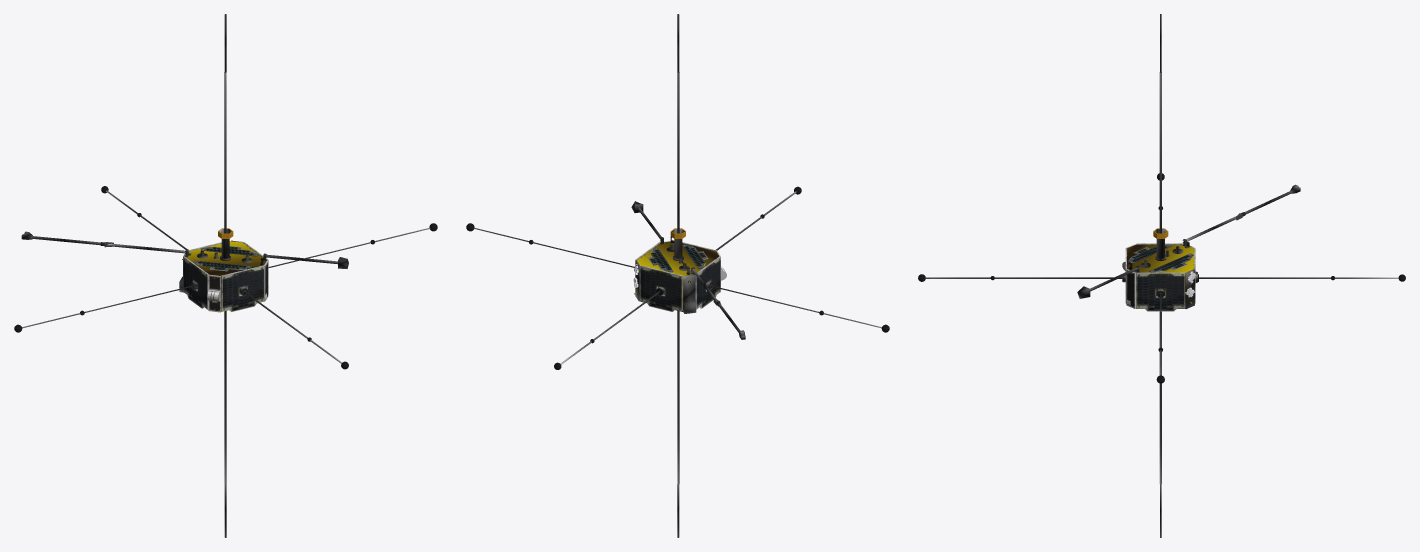
Rendered from themis.glb.
3 views of the same model, side by side, from view 1: azimuth 30°, elevation 25°; view 2: azimuth 150°, elevation 25°; view 3: azimuth 270°, elevation 25° (orthographic).
Parts seen in each view (by area): view 1: foil_silver, shiny_panel, foil_gold; view 2: foil_silver, shiny_panel, foil_gold; view 3: foil_silver, shiny_panel, foil_gold.
Part boxes in pixels (box(x1,y1,x2,y2)): foil_silver: box(14, 14, 437, 537); shiny_panel: box(183, 228, 268, 312); foil_gold: box(182, 241, 266, 311); foil_silver: box(466, 14, 889, 537); shiny_panel: box(633, 228, 726, 311); foil_gold: box(634, 241, 719, 311); foil_silver: box(918, 14, 1405, 537); shiny_panel: box(1122, 228, 1195, 311); foil_gold: box(1127, 244, 1194, 308).
Bounding box in the file's own units: 6.09 × 7.21 × 6.09.
Materials: 3 (3 with a texture image).
